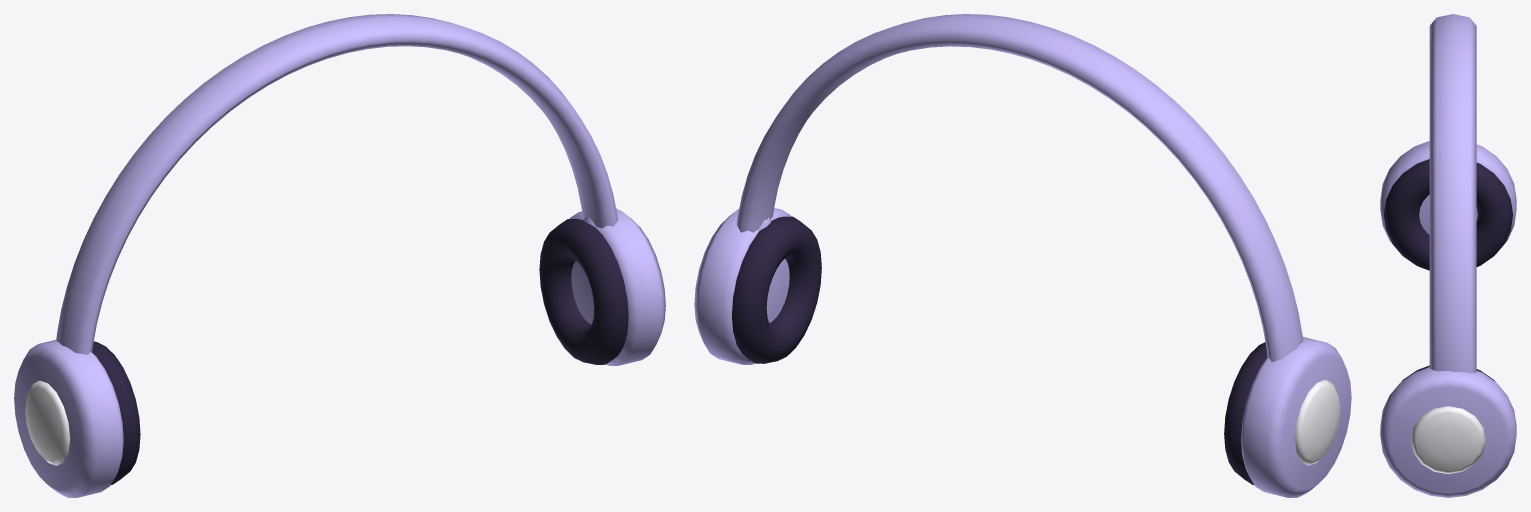
The model's file is headphones.glb.
3 views of the same model, side by side, from view 1: azimuth 30°, elevation 25°; view 2: azimuth 150°, elevation 25°; view 3: azimuth 270°, elevation 25° (orthographic). The views are drawn at different scales.
Parts seen in each view (by area): view 1: headphones-mesh; view 2: headphones-mesh; view 3: headphones-mesh.
Part boxes in pixels (x1,y1,x2,y2): headphones-mesh: (14, 14, 665, 497); headphones-mesh: (694, 14, 1351, 497); headphones-mesh: (1380, 14, 1516, 497).
Bounding box in the file's own units: 2.53 × 1.6 × 0.58.
